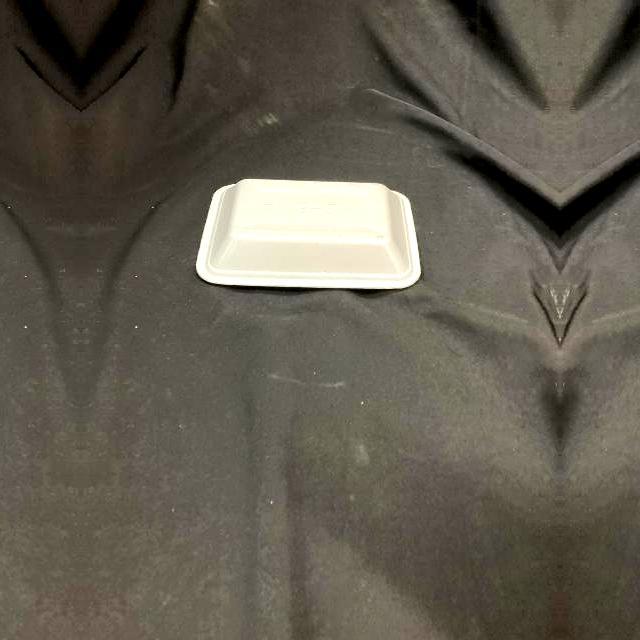Styrofoam: (194, 176, 420, 290), (195, 179, 420, 289)
